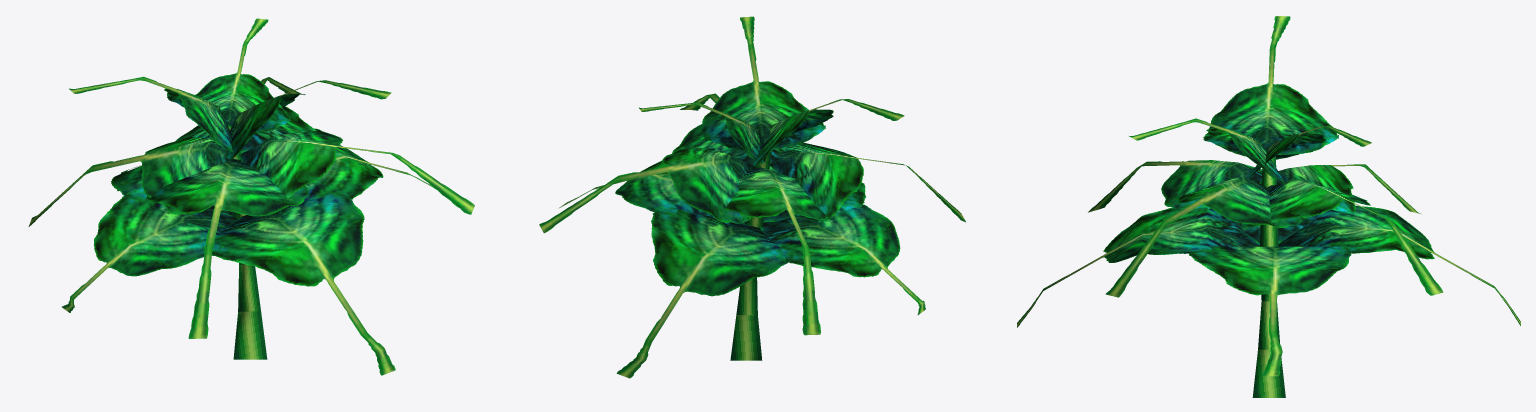
The model's file is LVL_RIV_BROADLEAF.obj.
3 views of the same model, side by side, from view 1: azimuth 30°, elevation 25°; view 2: azimuth 150°, elevation 25°; view 3: azimuth 270°, elevation 25° (orthographic). The views are drawn at different scales.
Visible parts, largest first — view 1: l_riv_broadleaf; view 2: l_riv_broadleaf; view 3: l_riv_broadleaf.
Part boxes in pixels (bbox=[...]): l_riv_broadleaf: bbox=[28, 18, 474, 375]; l_riv_broadleaf: bbox=[539, 16, 965, 378]; l_riv_broadleaf: bbox=[1017, 16, 1520, 397].
Size of the model in its own units: 174 by 128 by 198.
